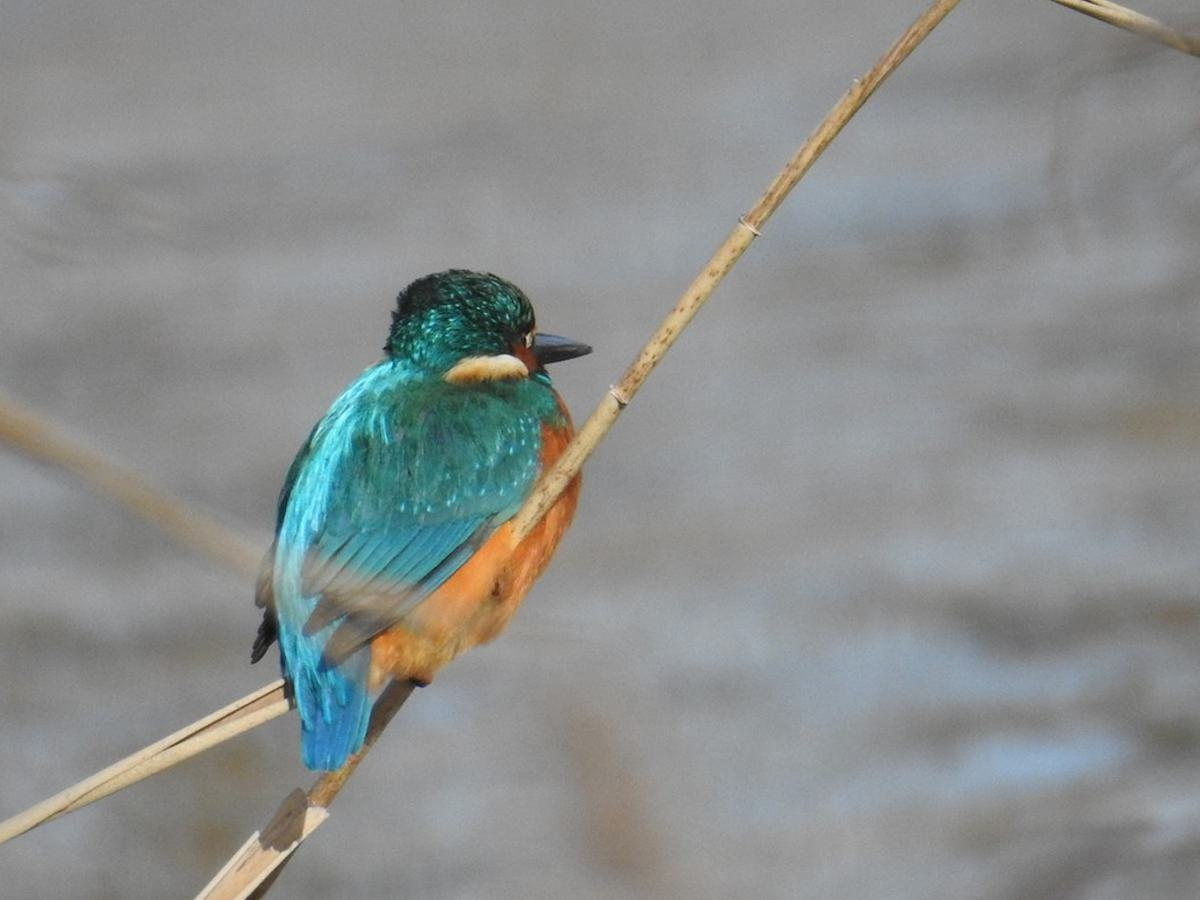kingfisher: (248, 246, 631, 759)
